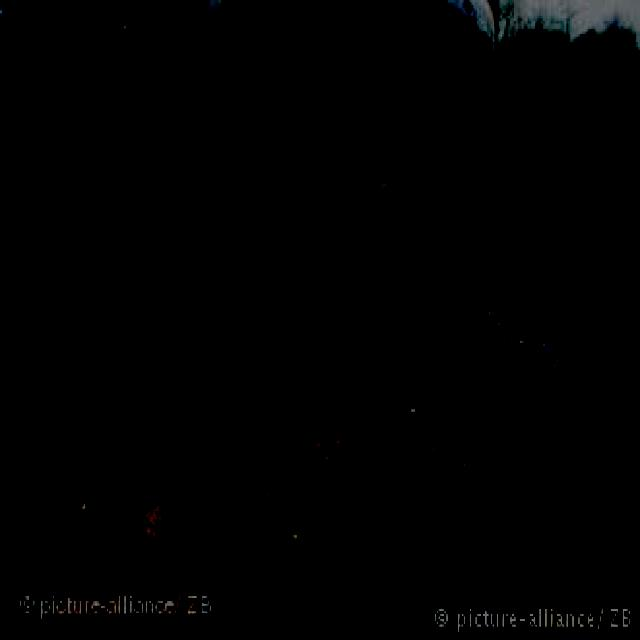Pothole: (4, 161, 640, 562)
